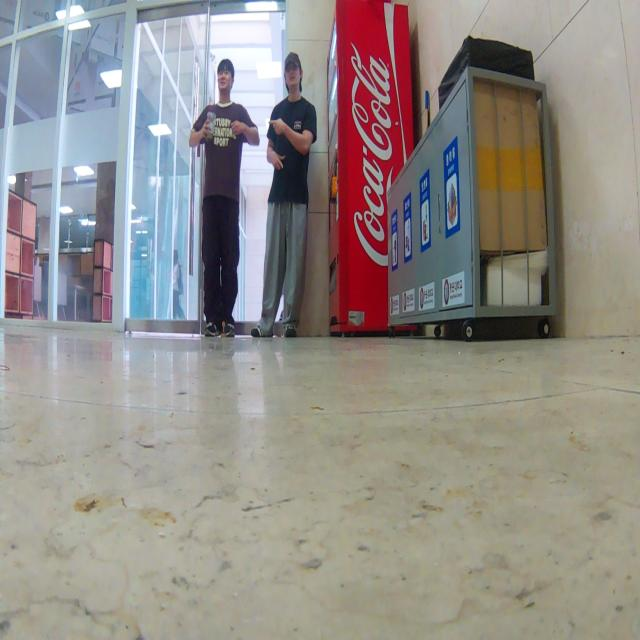target: (219, 318, 228, 340)
